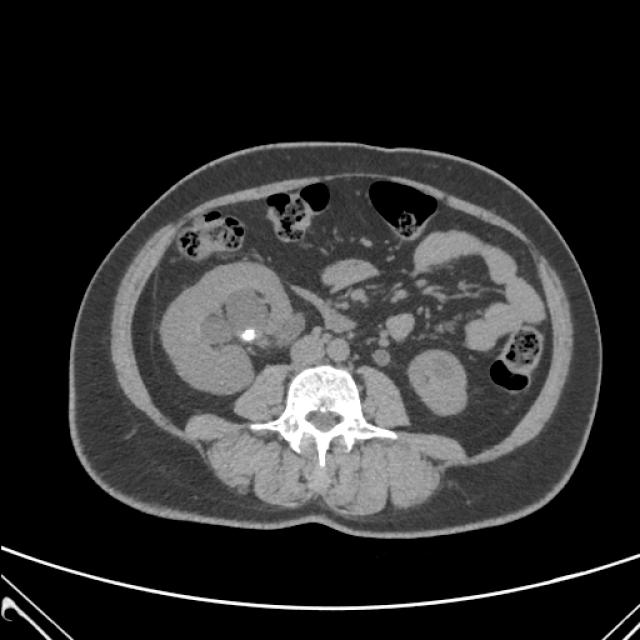kidney: (202, 292, 288, 366), (404, 349, 474, 417)
stone: (237, 321, 258, 346)
